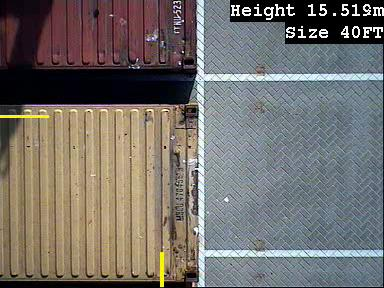groundmarker_2: (180, 184, 229, 227), (180, 34, 229, 77)
